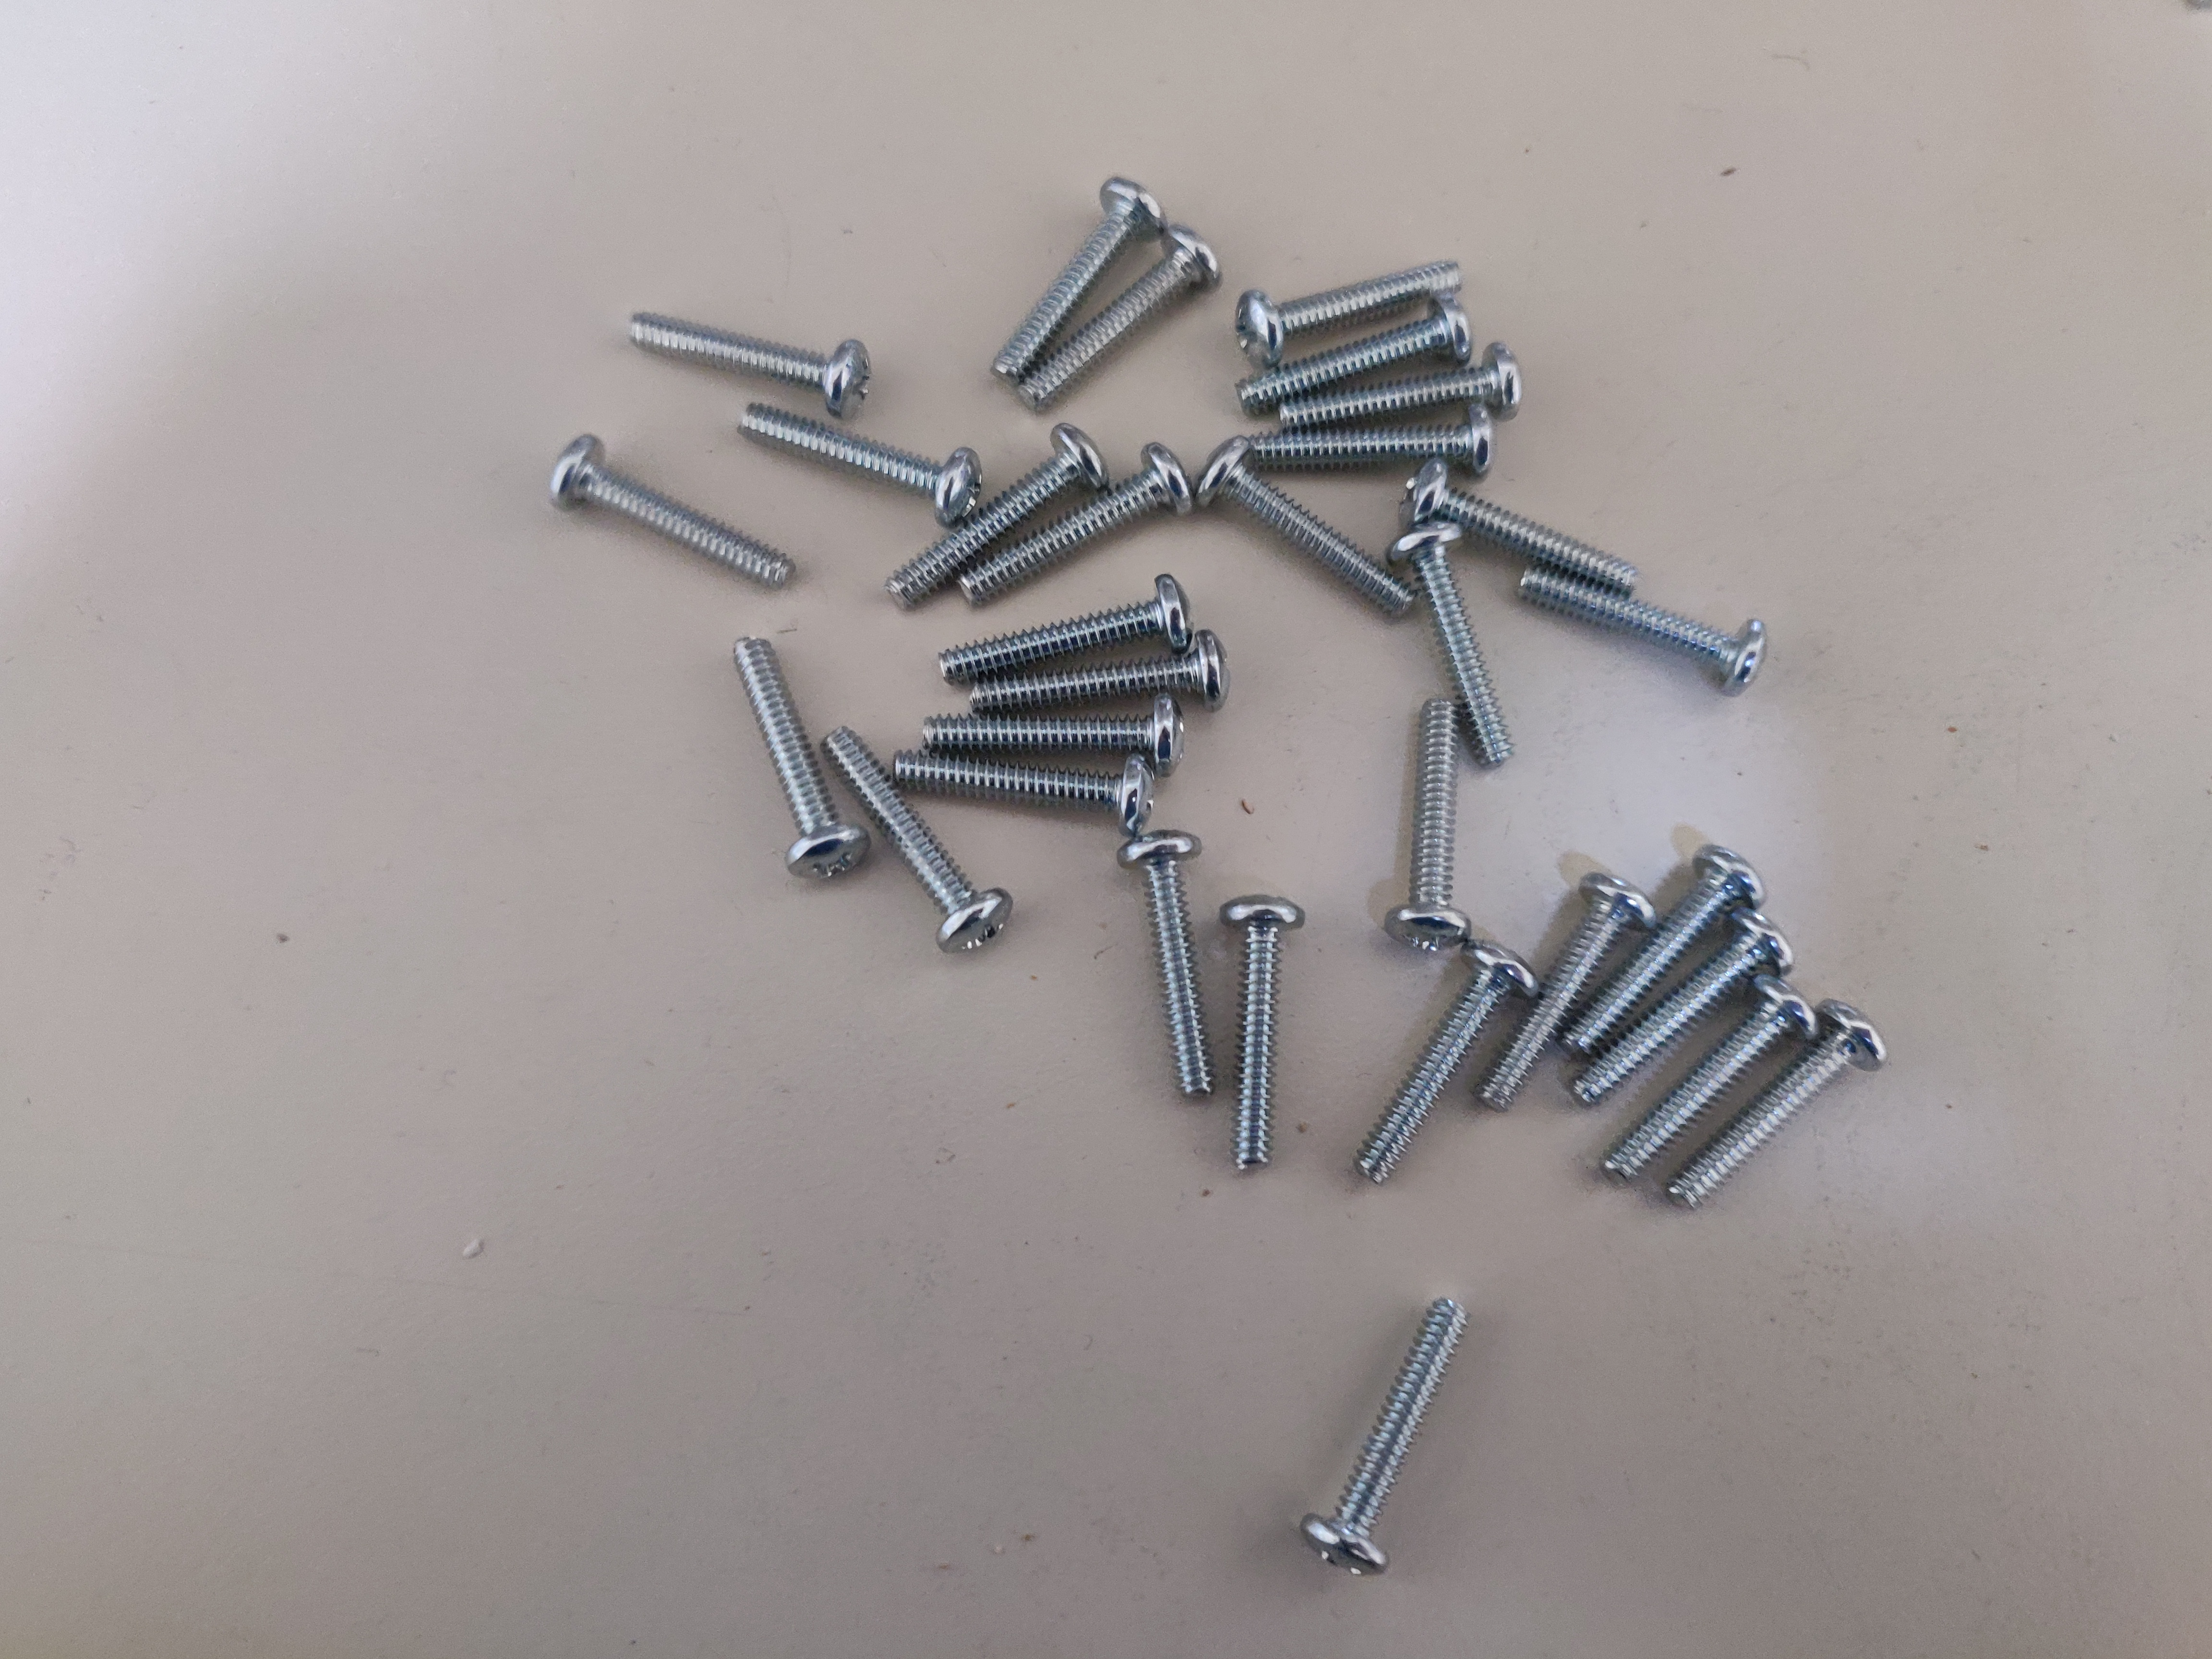longscrew: (1312, 1283, 1487, 1575), (827, 714, 1021, 960), (1352, 931, 1527, 1195), (1472, 868, 1667, 1096), (1561, 843, 1756, 1072), (1576, 897, 1782, 1110), (1602, 972, 1808, 1185), (1676, 999, 1881, 1211), (894, 422, 1122, 612), (1505, 552, 1782, 701), (531, 437, 798, 589), (1198, 451, 1437, 620), (960, 444, 1207, 606), (716, 640, 864, 889), (744, 382, 991, 521), (1040, 207, 1221, 397), (995, 176, 1176, 364), (624, 293, 874, 422), (1104, 823, 1205, 1126), (1212, 884, 1313, 1187), (935, 572, 1198, 681), (1414, 457, 1637, 586), (888, 739, 1174, 836), (1393, 532, 1512, 767), (913, 701, 1200, 796), (958, 633, 1245, 728), (1244, 295, 1475, 408), (1294, 317, 1526, 430), (1400, 692, 1484, 964), (1245, 256, 1475, 354), (1237, 418, 1526, 474)
